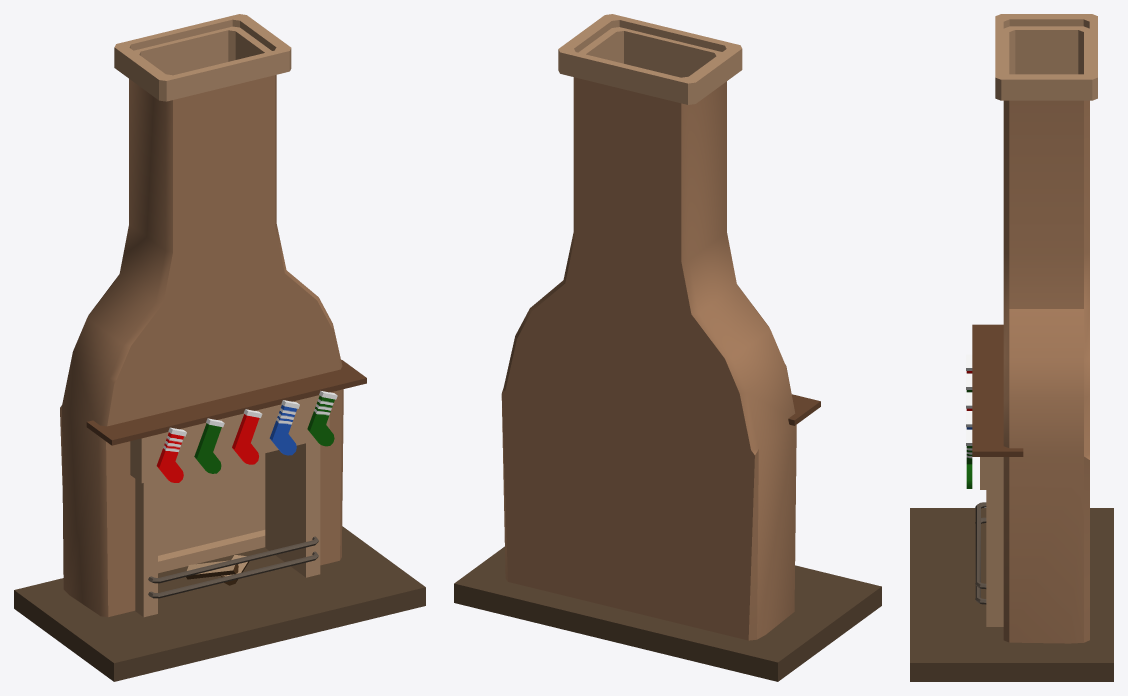
File: Ch3_Fireplace.FBX
3 renders of one model, left to right at view 1: azimuth 30°, elevation 25°; view 2: azimuth 150°, elevation 25°; view 3: azimuth 270°, elevation 25°, orthographic. The views are drawn at different scales.
Visible parts, largest first — view 1: Fireplace001; view 2: Fireplace001; view 3: Fireplace001.
Part boxes in pixels (<box>): Fireplace001: <box>14,14,425,681</box>; Fireplace001: <box>454,14,881,681</box>; Fireplace001: <box>910,14,1113,681</box>.
Size of the model in its own units: 200 by 336 by 111.
